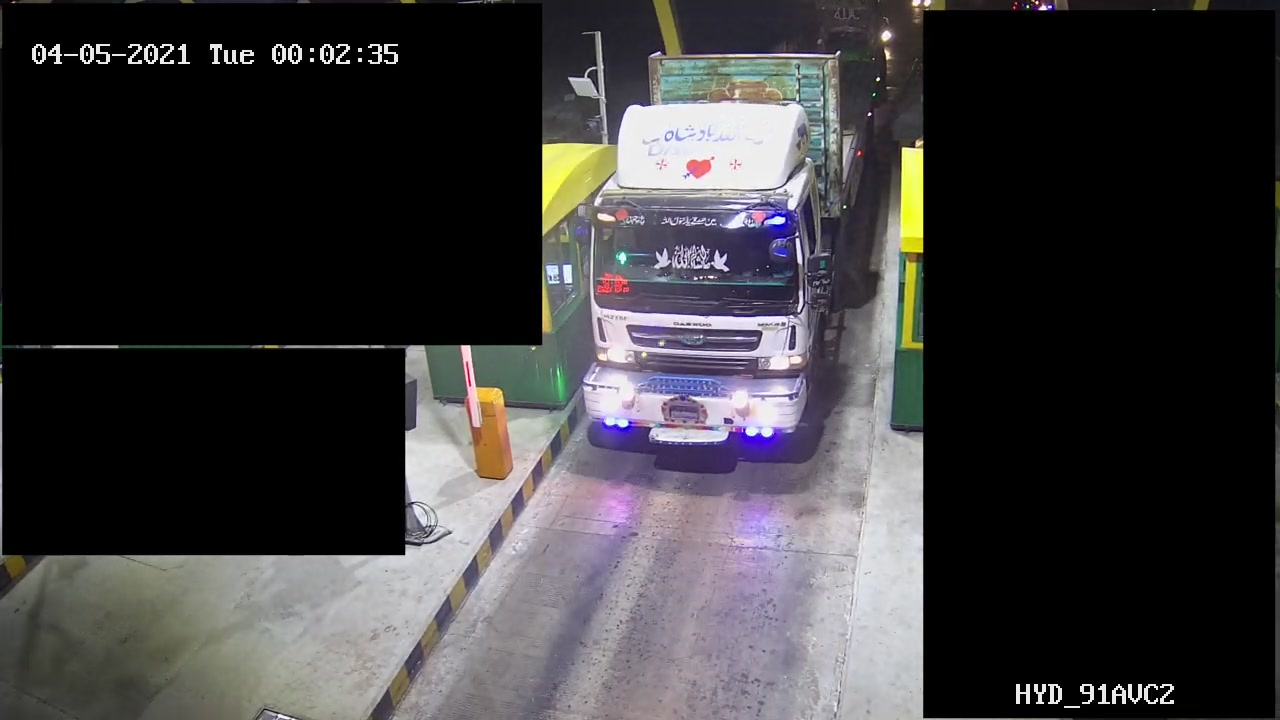F6: (574, 51, 899, 467)
